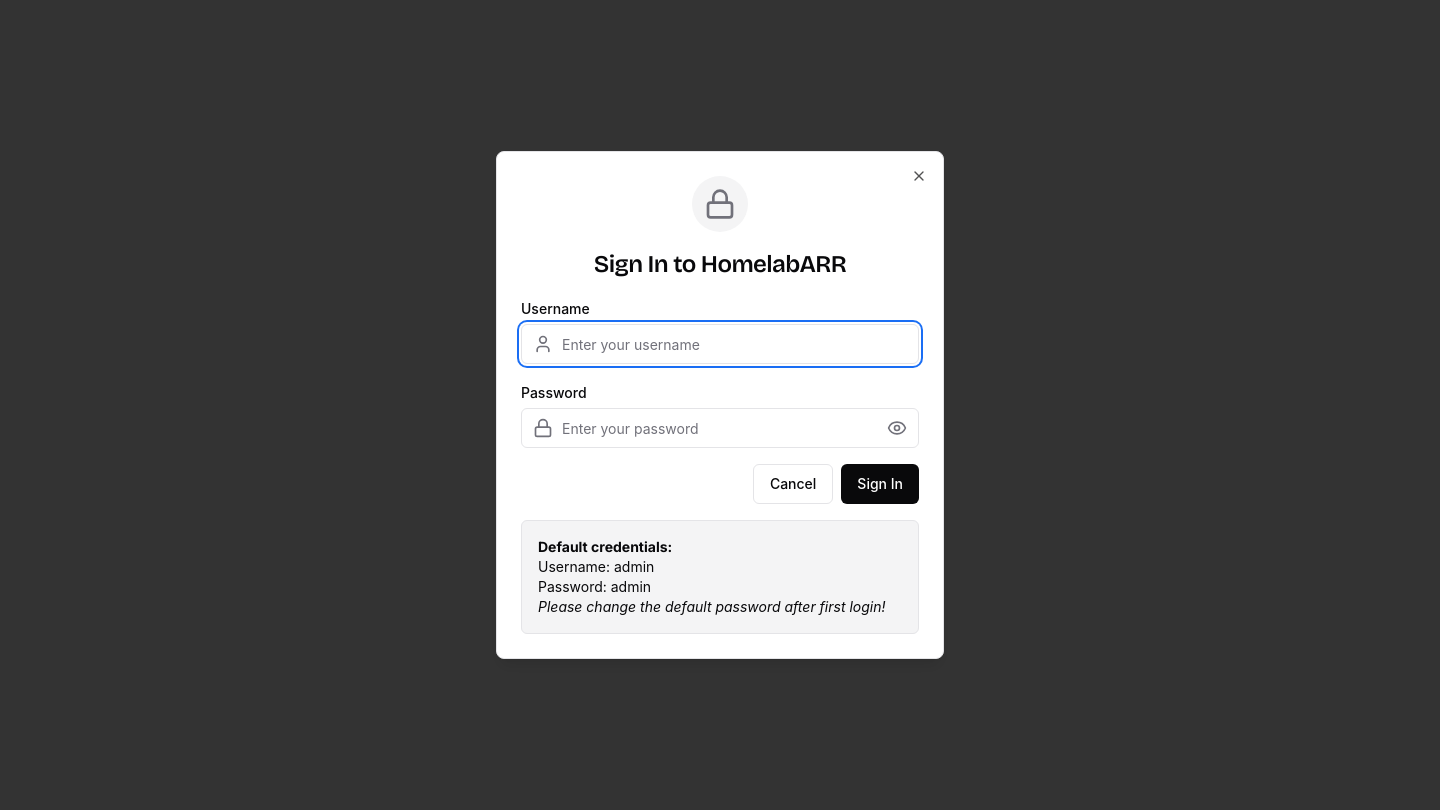
Test: LoginModal › switches to the Two-Factor step when MFA is required
The image size is (1440, 810).
In the field labelled "Username": {"x": 720, "y": 344} [521,324,919,364], type "alice"
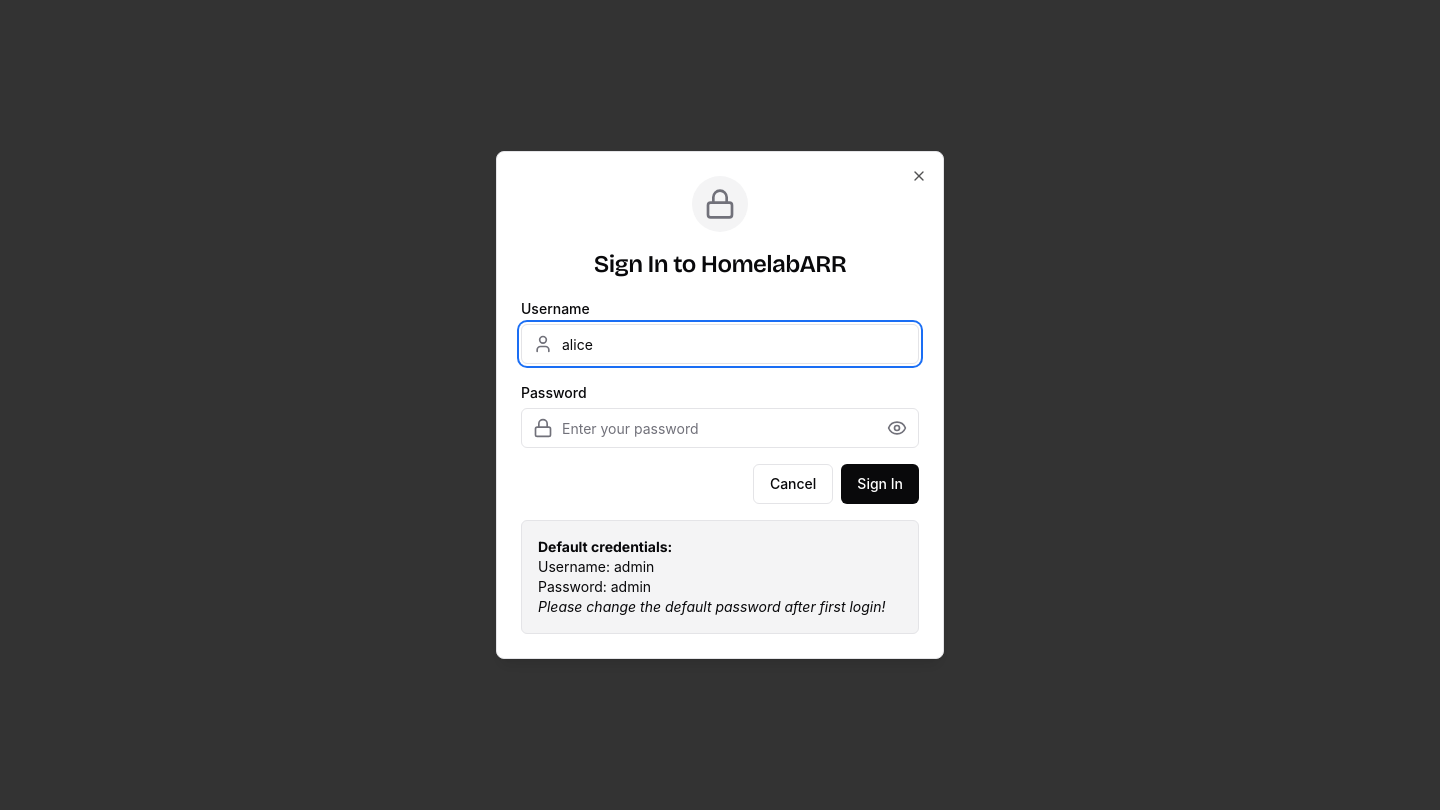
In the password field labelled "Password": {"x": 720, "y": 428} [521,408,919,448], type "pw123"
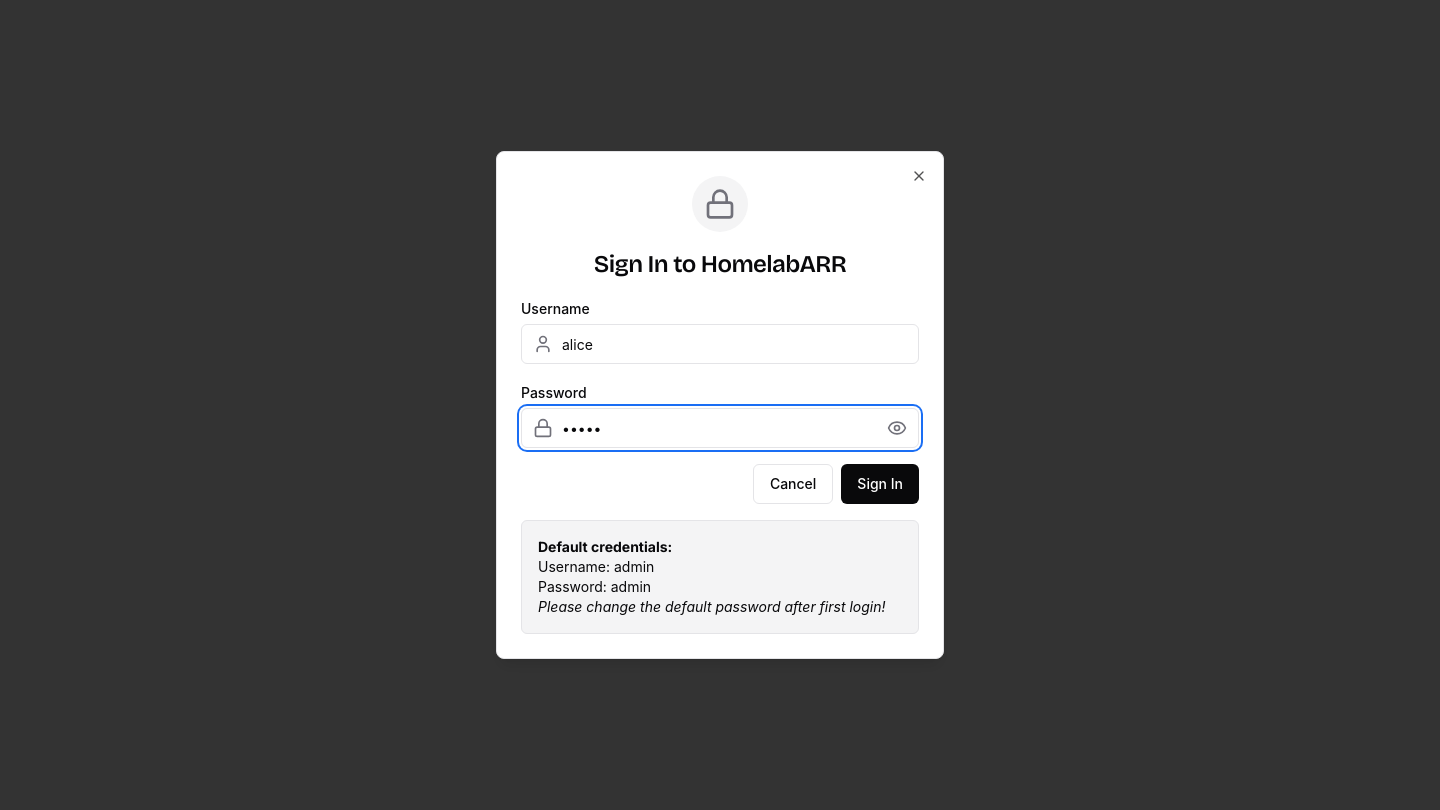
Click the button "Sign In": {"x": 880, "y": 484} [841,464,919,504]
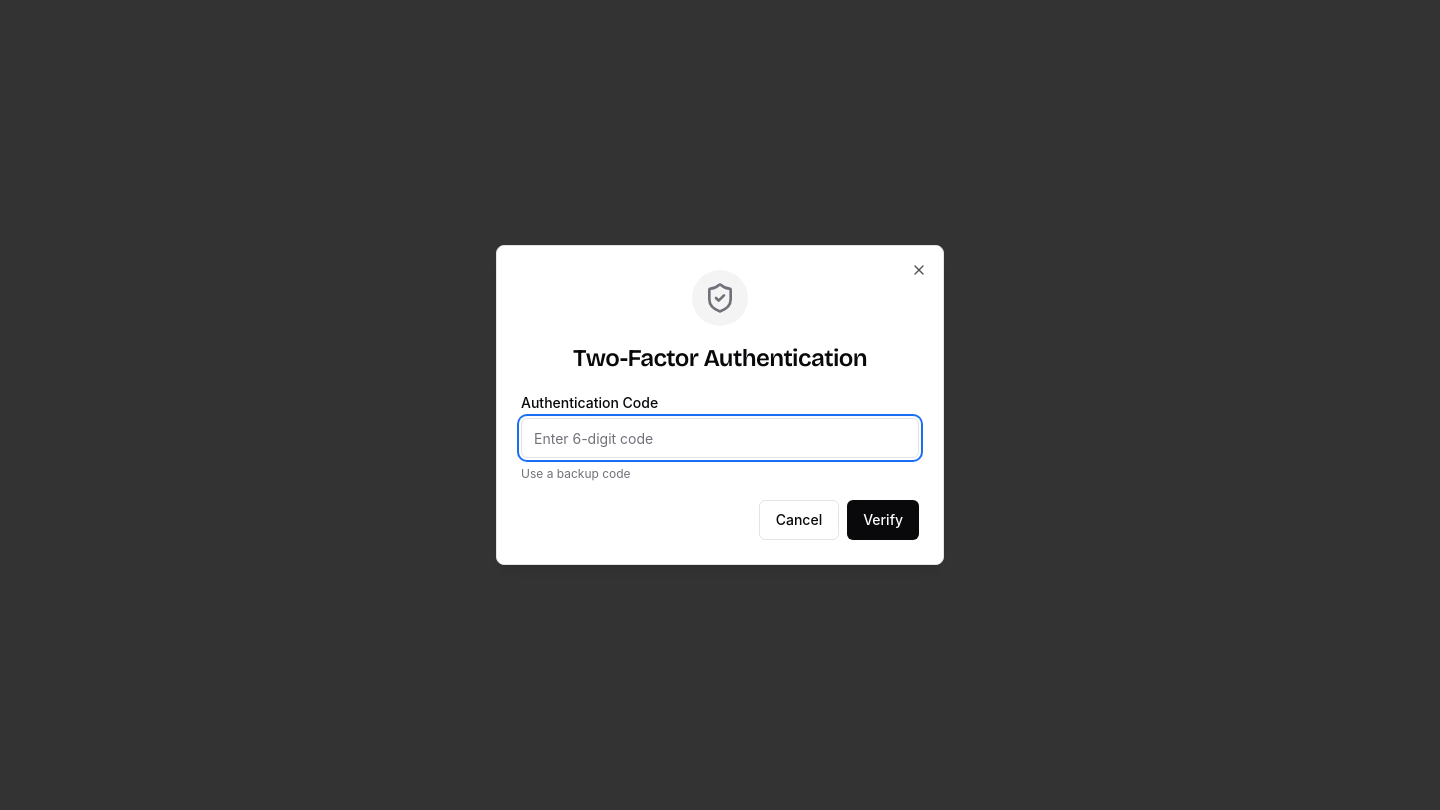
expect the heading "Two-Factor Authentication" is shown: met, box [573,344,867,372]
expect the field labelled "Authentication Code" is shown: met, box [521,418,919,458]
expect the button "Verify" is shown: met, box [847,500,919,540]
